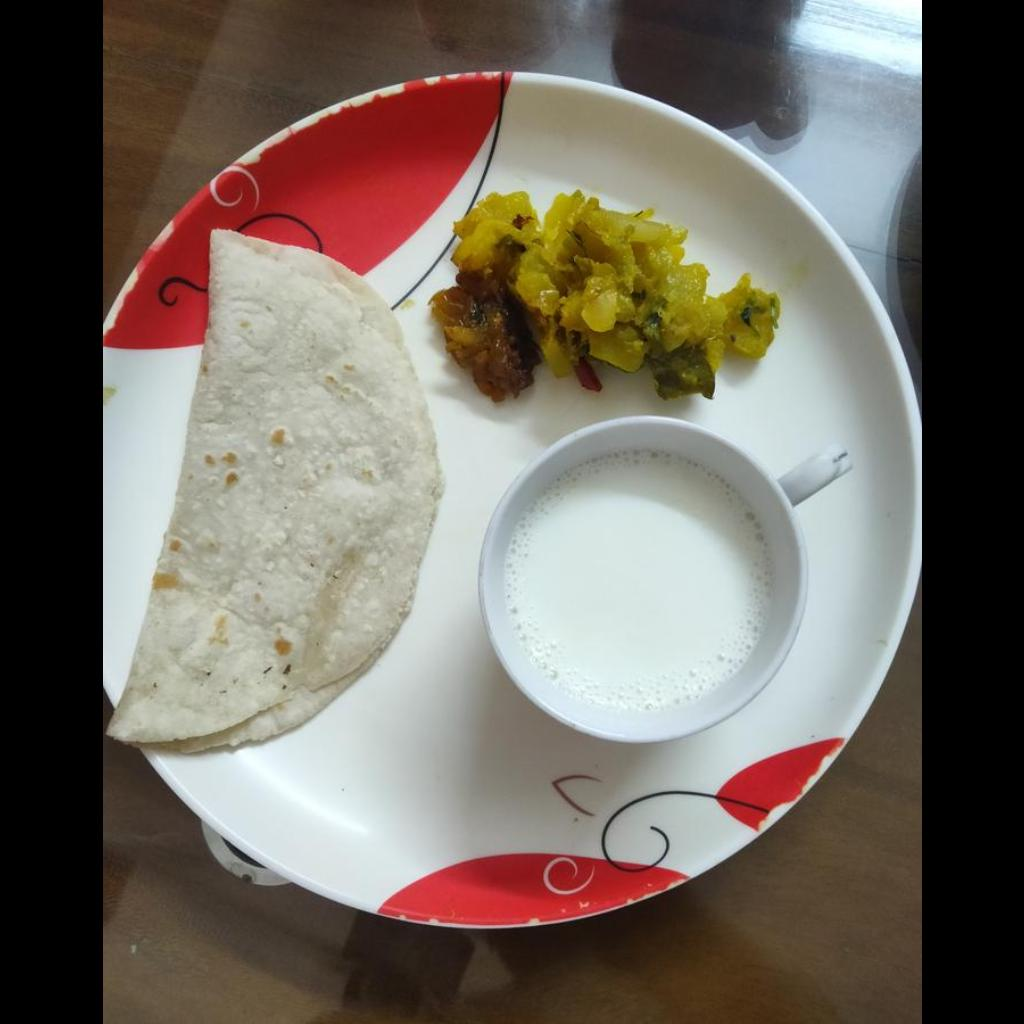milk: (510, 454, 769, 705)
ruti: (102, 233, 438, 751)
vegetable: (434, 188, 781, 403)
